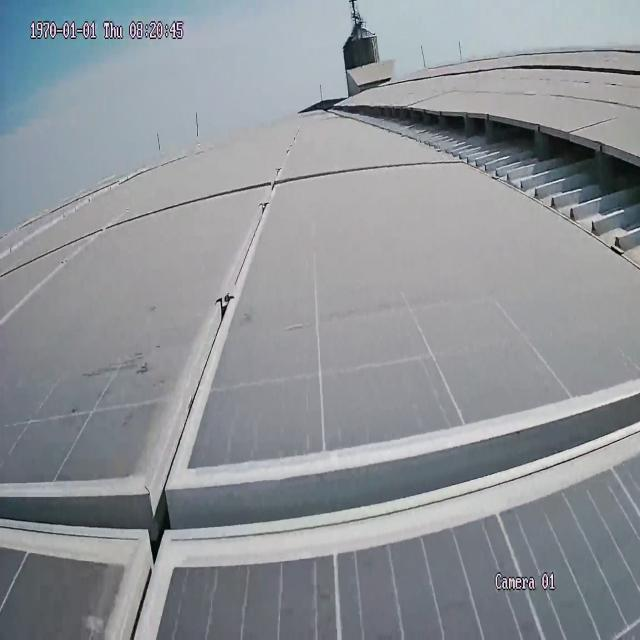interior panel: (0, 143, 640, 640)
outher panel: (331, 102, 635, 277)
